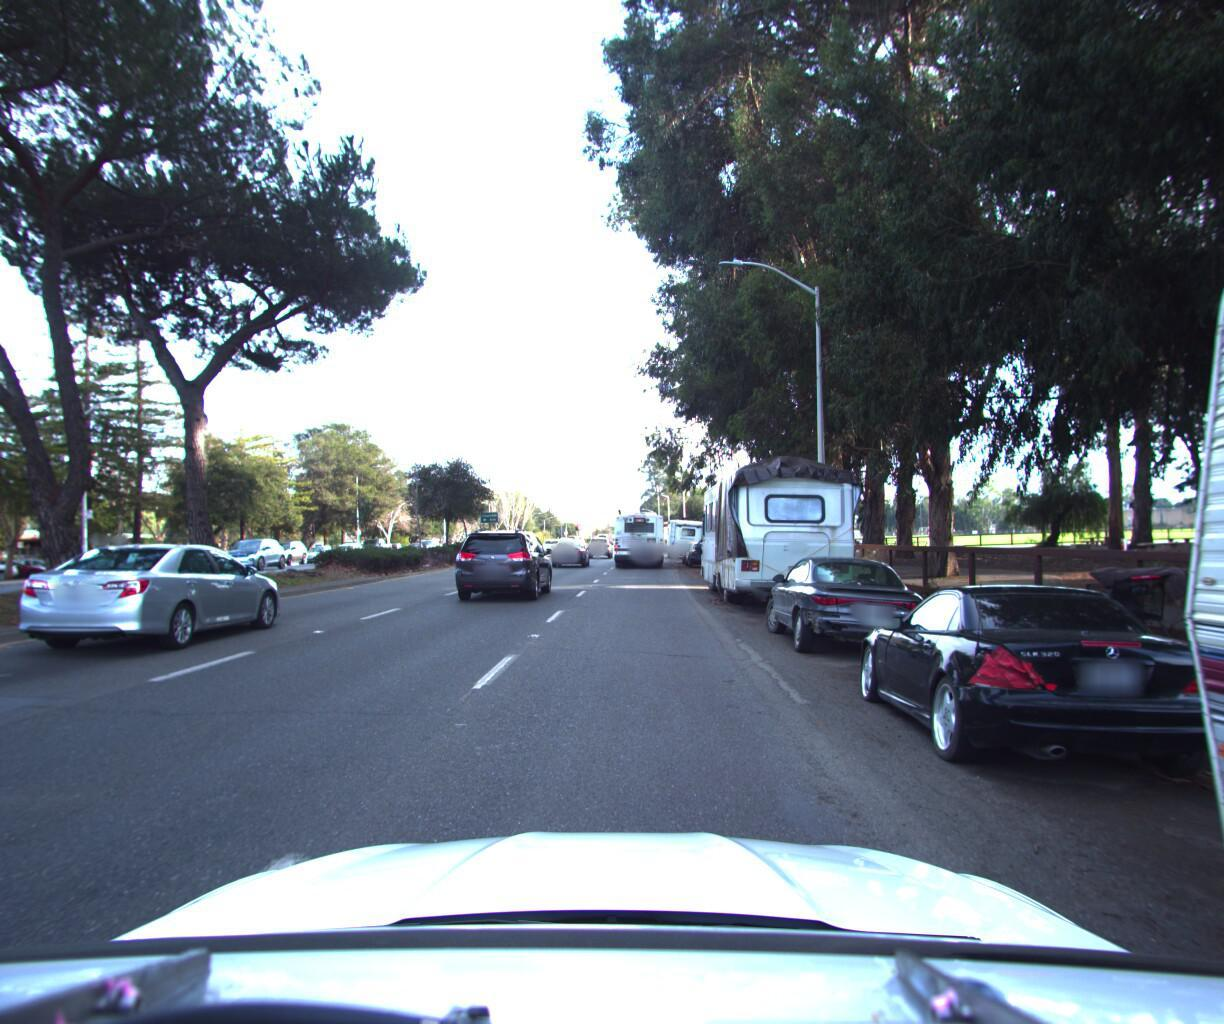bus: (606, 499, 664, 564)
car: (848, 567, 1224, 814), (13, 539, 287, 659), (760, 548, 929, 666), (451, 525, 551, 602), (217, 535, 291, 569), (259, 536, 311, 564), (546, 537, 589, 566), (681, 535, 722, 564), (584, 533, 615, 553), (536, 535, 563, 556)
other_vehicle: (691, 453, 862, 619), (664, 510, 703, 553)
